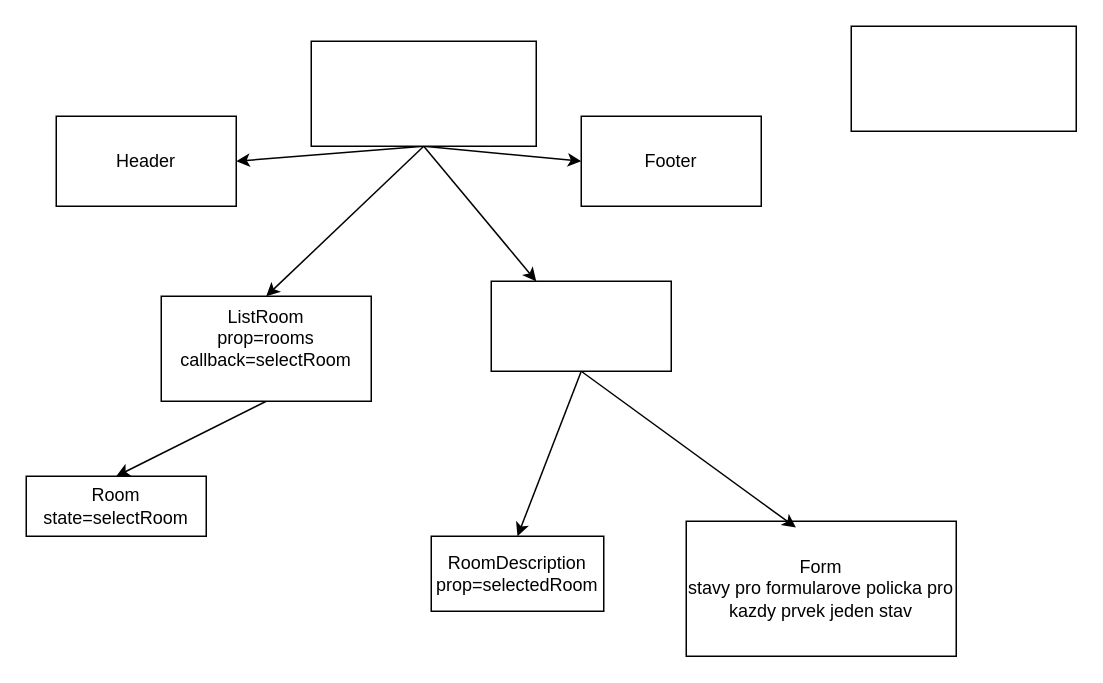
The diagram is 1103 pixels wide and 683 high, and some of its shapes have lost their labels. Each missing label, with the centre of its shape:
Admin state=orders: the point at 963,78
Homepage state=rooms callback=selectRoom state=selectedRoom: the point at 423,93
RoomDetail prop=selectedRoom obsazena cena: the point at 580,325
